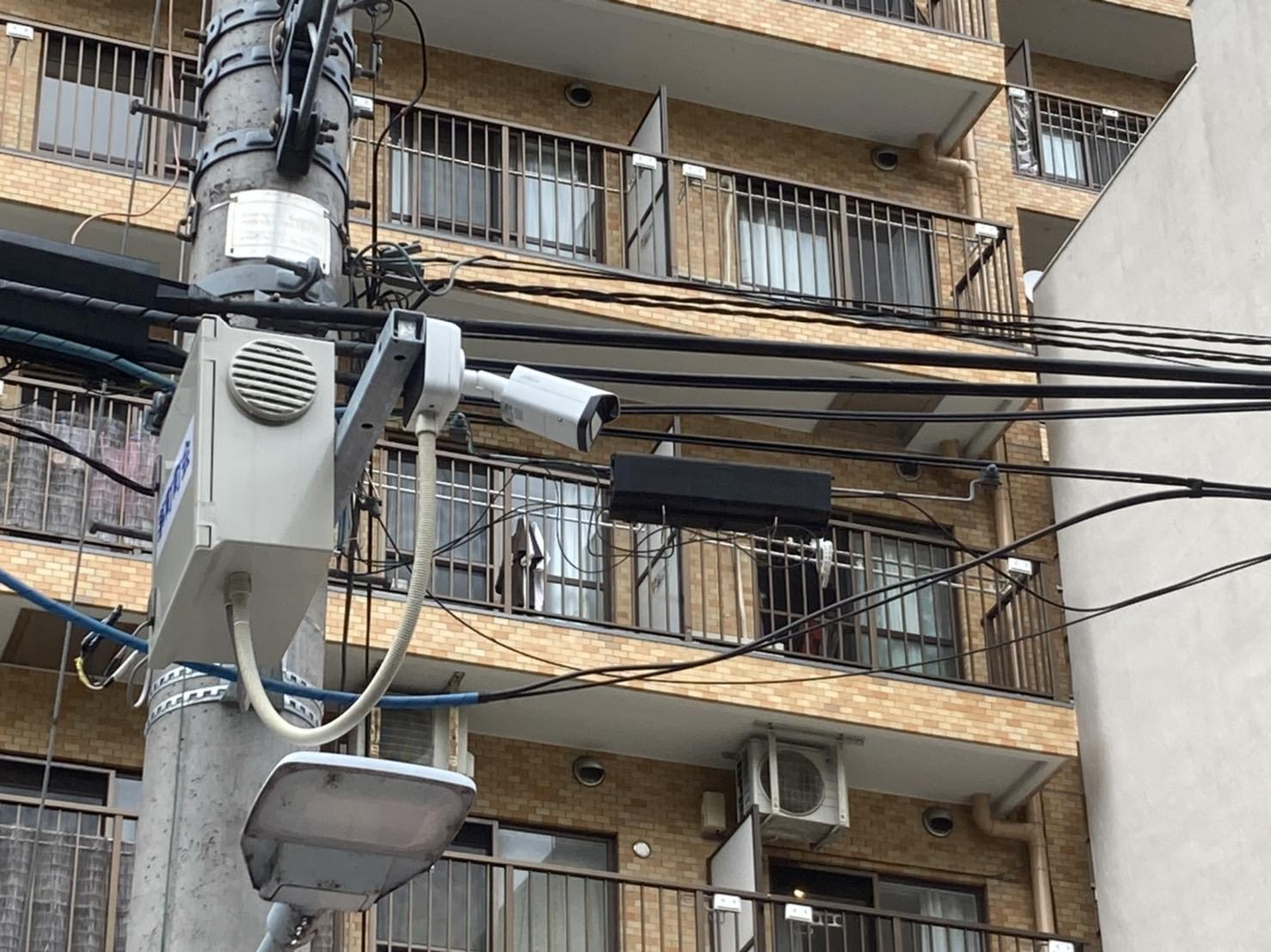tutu: (488, 364, 626, 461)
